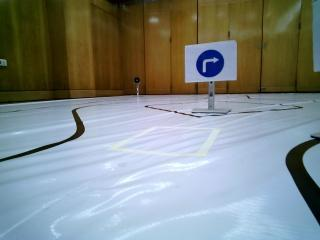right: (185, 45, 236, 81)
